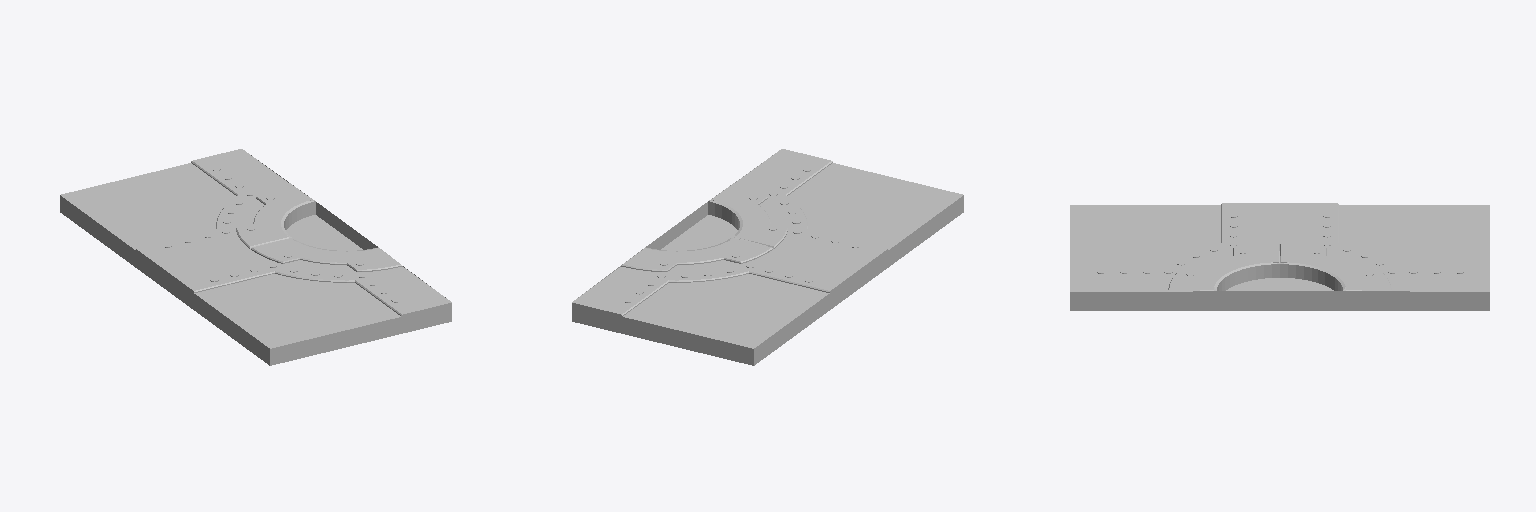
File: DoorZero_high.obj
3 views of the same model, side by side, from view 1: azimuth 30°, elevation 25°; view 2: azimuth 150°, elevation 25°; view 3: azimuth 270°, elevation 25° (orthographic).
Parts seen in each view (by area): view 1: doorsub_high_Cube.011; view 2: doorsub_high_Cube.011; view 3: doorsub_high_Cube.011.
Boxes of the visible parts, box(x1,y1,x2,y2) form: doorsub_high_Cube.011: box(60, 149, 451, 365); doorsub_high_Cube.011: box(572, 149, 963, 365); doorsub_high_Cube.011: box(1070, 203, 1489, 310).
Size of the model in its own units: 0.2 by 0.0227 by 0.4.